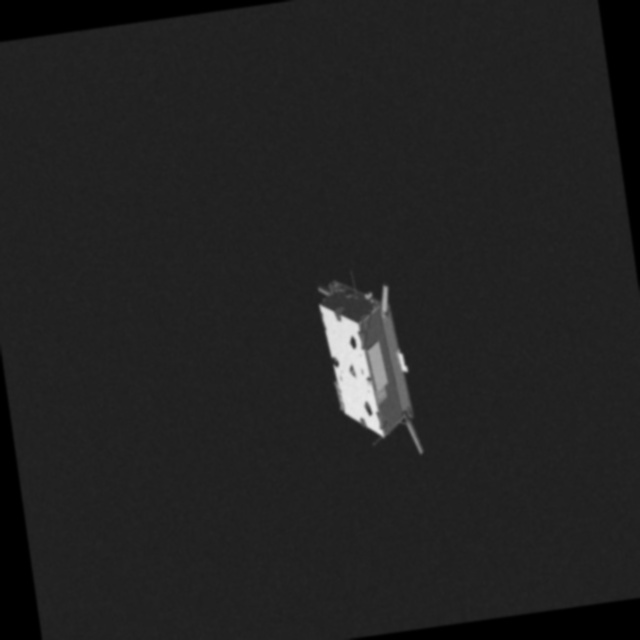medium_debris: (301, 267, 432, 472)
